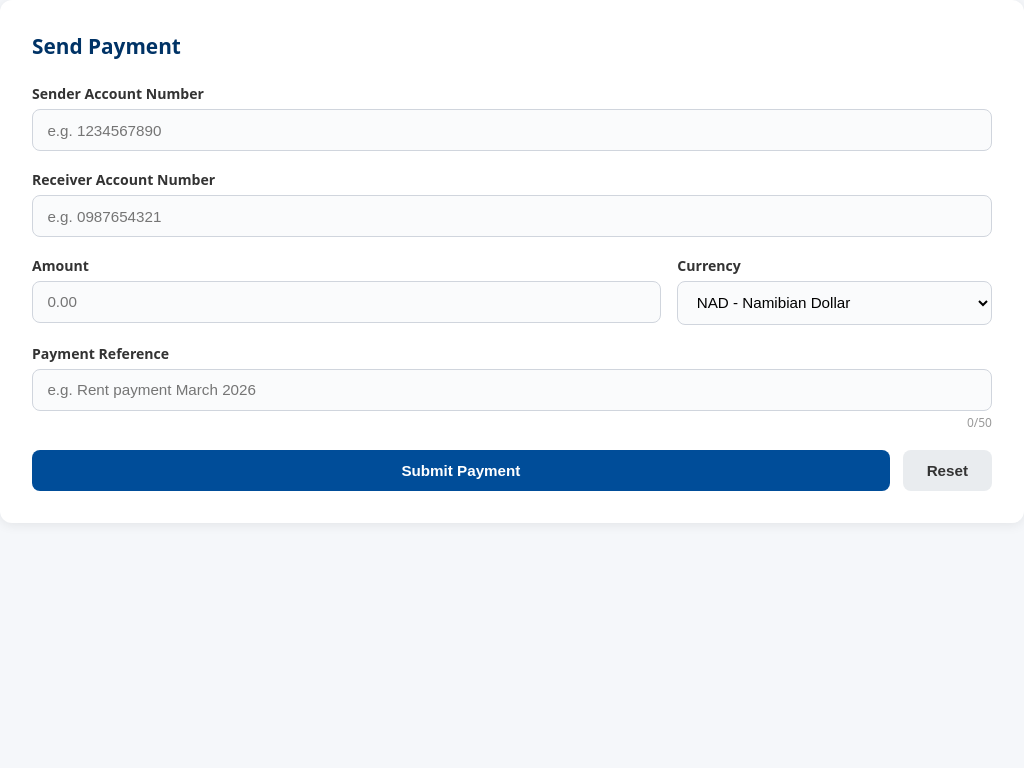
Test: PaymentForm › Validation › shows error when sender account number is less than 10 digits
The width and height of the screenshot is (1024, 768).
Type "12345" into the field labelled "Sender Account Number".
click(512, 130); type("12345")  # box top-left (32, 109), bottom-right (992, 151)
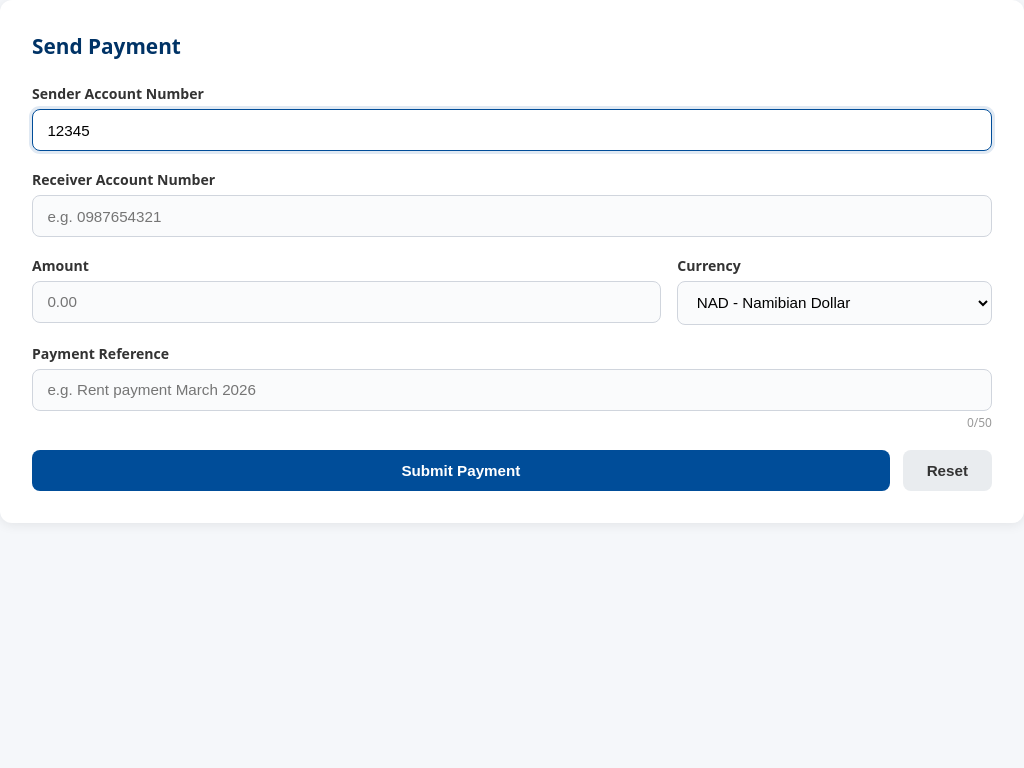
Click the button "Submit Payment".
click(461, 470)  # box top-left (32, 450), bottom-right (890, 491)
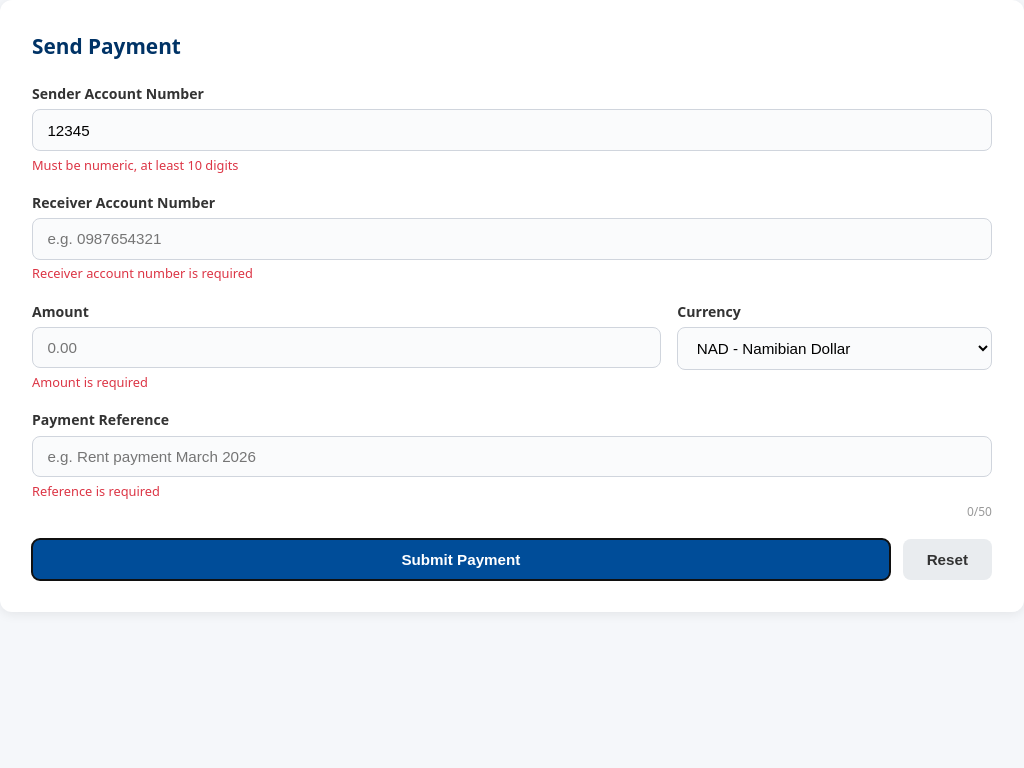
expect the text "Must be numeric, at least 10 digits" is shown: met, box top-left (32, 156), bottom-right (238, 174)
